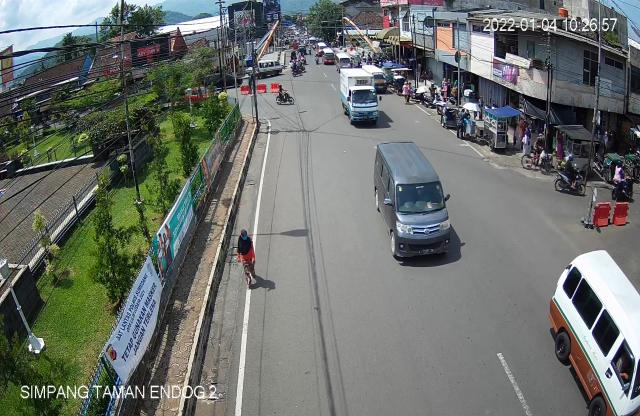Mobil: (543, 244, 640, 416), (364, 136, 463, 267)
Motor: (550, 151, 589, 199), (610, 159, 638, 201)
Truk: (337, 63, 384, 131)
